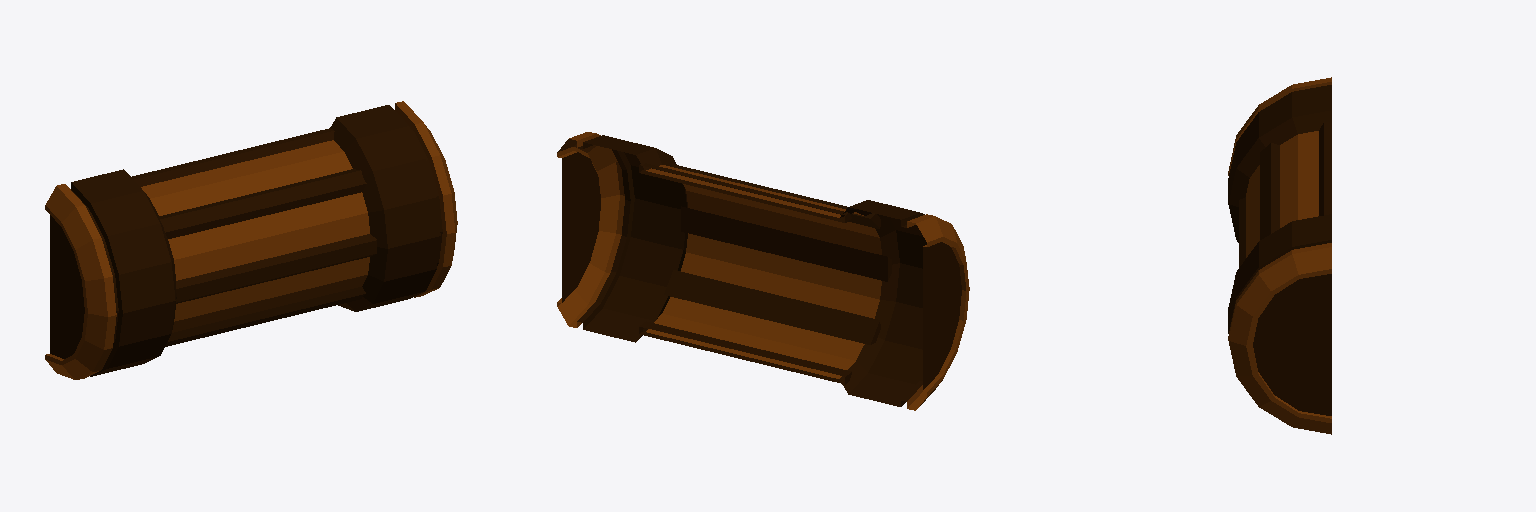
Rendered from Details_Cylinder_Long.obj.
The picture shows the model from 3 angles: view 1: azimuth 30°, elevation 25°; view 2: azimuth 150°, elevation 25°; view 3: azimuth 270°, elevation 25°; orthographic projection.
Parts seen in each view (by area): view 1: Details_Cylinder_Long_Cylinder.020; view 2: Details_Cylinder_Long_Cylinder.020; view 3: Details_Cylinder_Long_Cylinder.020.
Part boxes in pixels (bbox=[...]): Details_Cylinder_Long_Cylinder.020: bbox=[45, 101, 457, 379]; Details_Cylinder_Long_Cylinder.020: bbox=[557, 132, 969, 410]; Details_Cylinder_Long_Cylinder.020: bbox=[1228, 77, 1331, 434].
Bounding box in the file's own units: 0.7893 × 0.3827 × 0.1909.